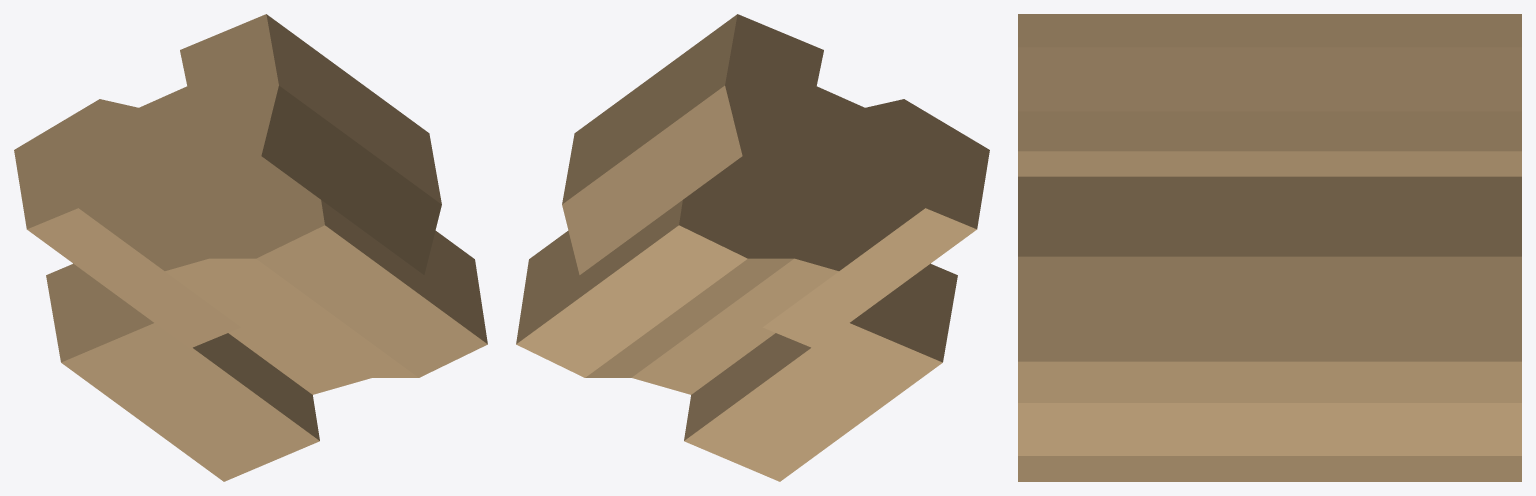
3 renders of one model, left to right at view 1: azimuth 30°, elevation 25°; view 2: azimuth 150°, elevation 25°; view 3: azimuth 270°, elevation 25°, orthographic. The views are drawn at different scales.
Parts seen in each view (by area): view 1: 0_3_2_0_1_0_0_2_1; view 2: 0_3_2_0_1_0_0_2_1; view 3: 0_3_2_0_1_0_0_2_1.
Part boxes in pixels (<box>): 0_3_2_0_1_0_0_2_1: <box>14,14,487,481</box>; 0_3_2_0_1_0_0_2_1: <box>516,14,989,481</box>; 0_3_2_0_1_0_0_2_1: <box>1018,14,1521,481</box>.
Bounding box in the file's own units: 23.13 × 21.22 × 21.
